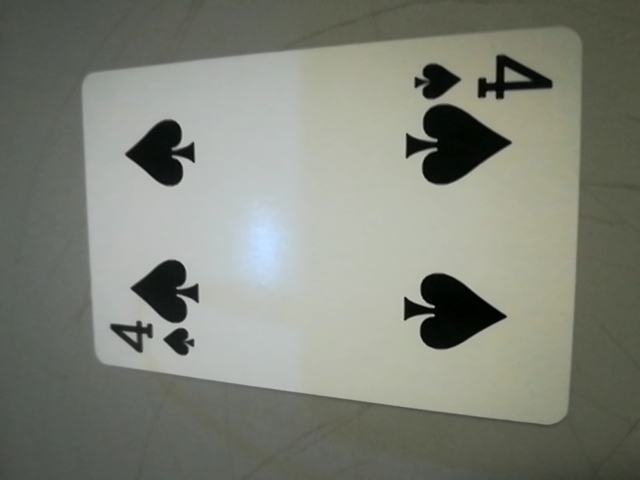ht 4: (401, 50, 569, 115)
